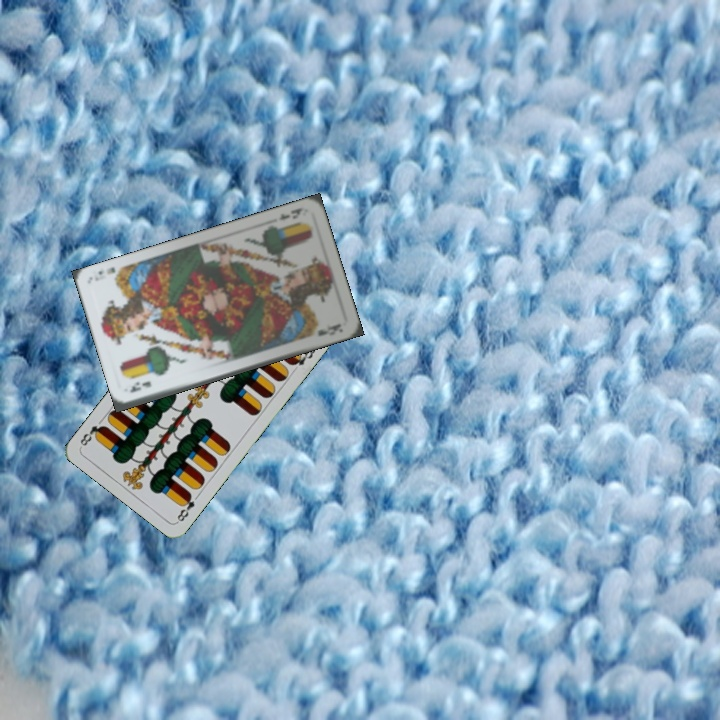E8: (173, 489, 198, 525)
EK: (274, 203, 307, 223), (125, 377, 154, 395)
